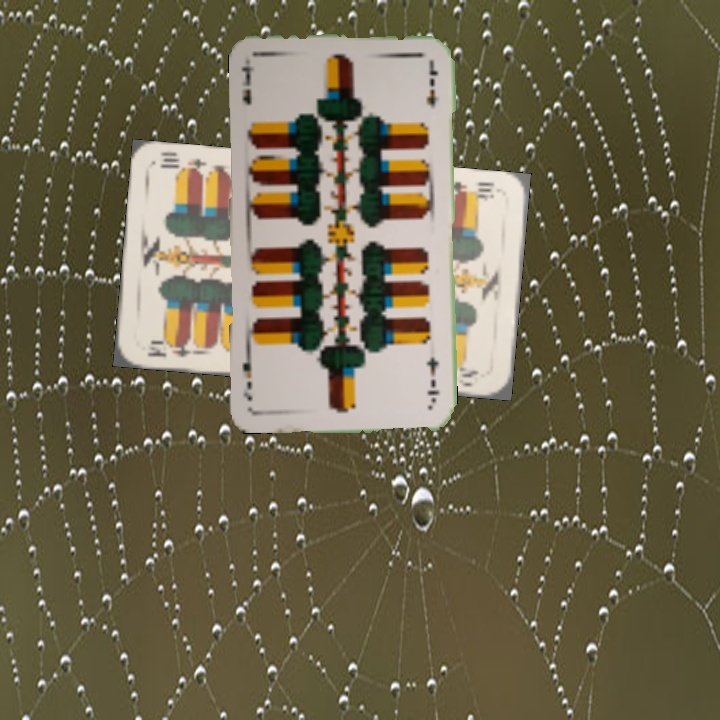E10: (447, 177, 497, 204), (143, 336, 198, 360)
E7: (423, 352, 443, 405), (237, 62, 256, 107)
